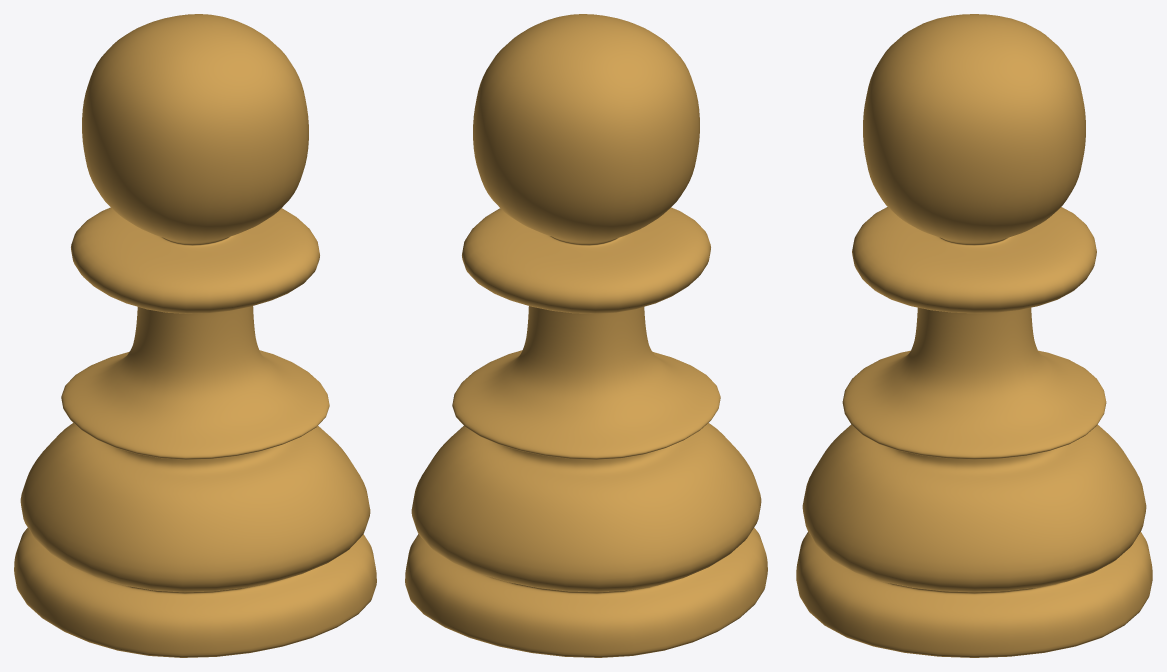
The model's file is pawn.obj.
The picture shows the model from 3 angles, left to right: view 1: azimuth 30°, elevation 25°; view 2: azimuth 150°, elevation 25°; view 3: azimuth 270°, elevation 25°; orthographic projection.
Visible parts, largest first — view 1: pawn_exp; view 2: pawn_exp; view 3: pawn_exp.
Boxes of the visible parts, <box> form: pawn_exp: <box>14,14,376,657</box>; pawn_exp: <box>405,14,767,657</box>; pawn_exp: <box>796,14,1152,657</box>.
Size of the model in its own units: 0.3047 by 0.5299 by 0.3047.
